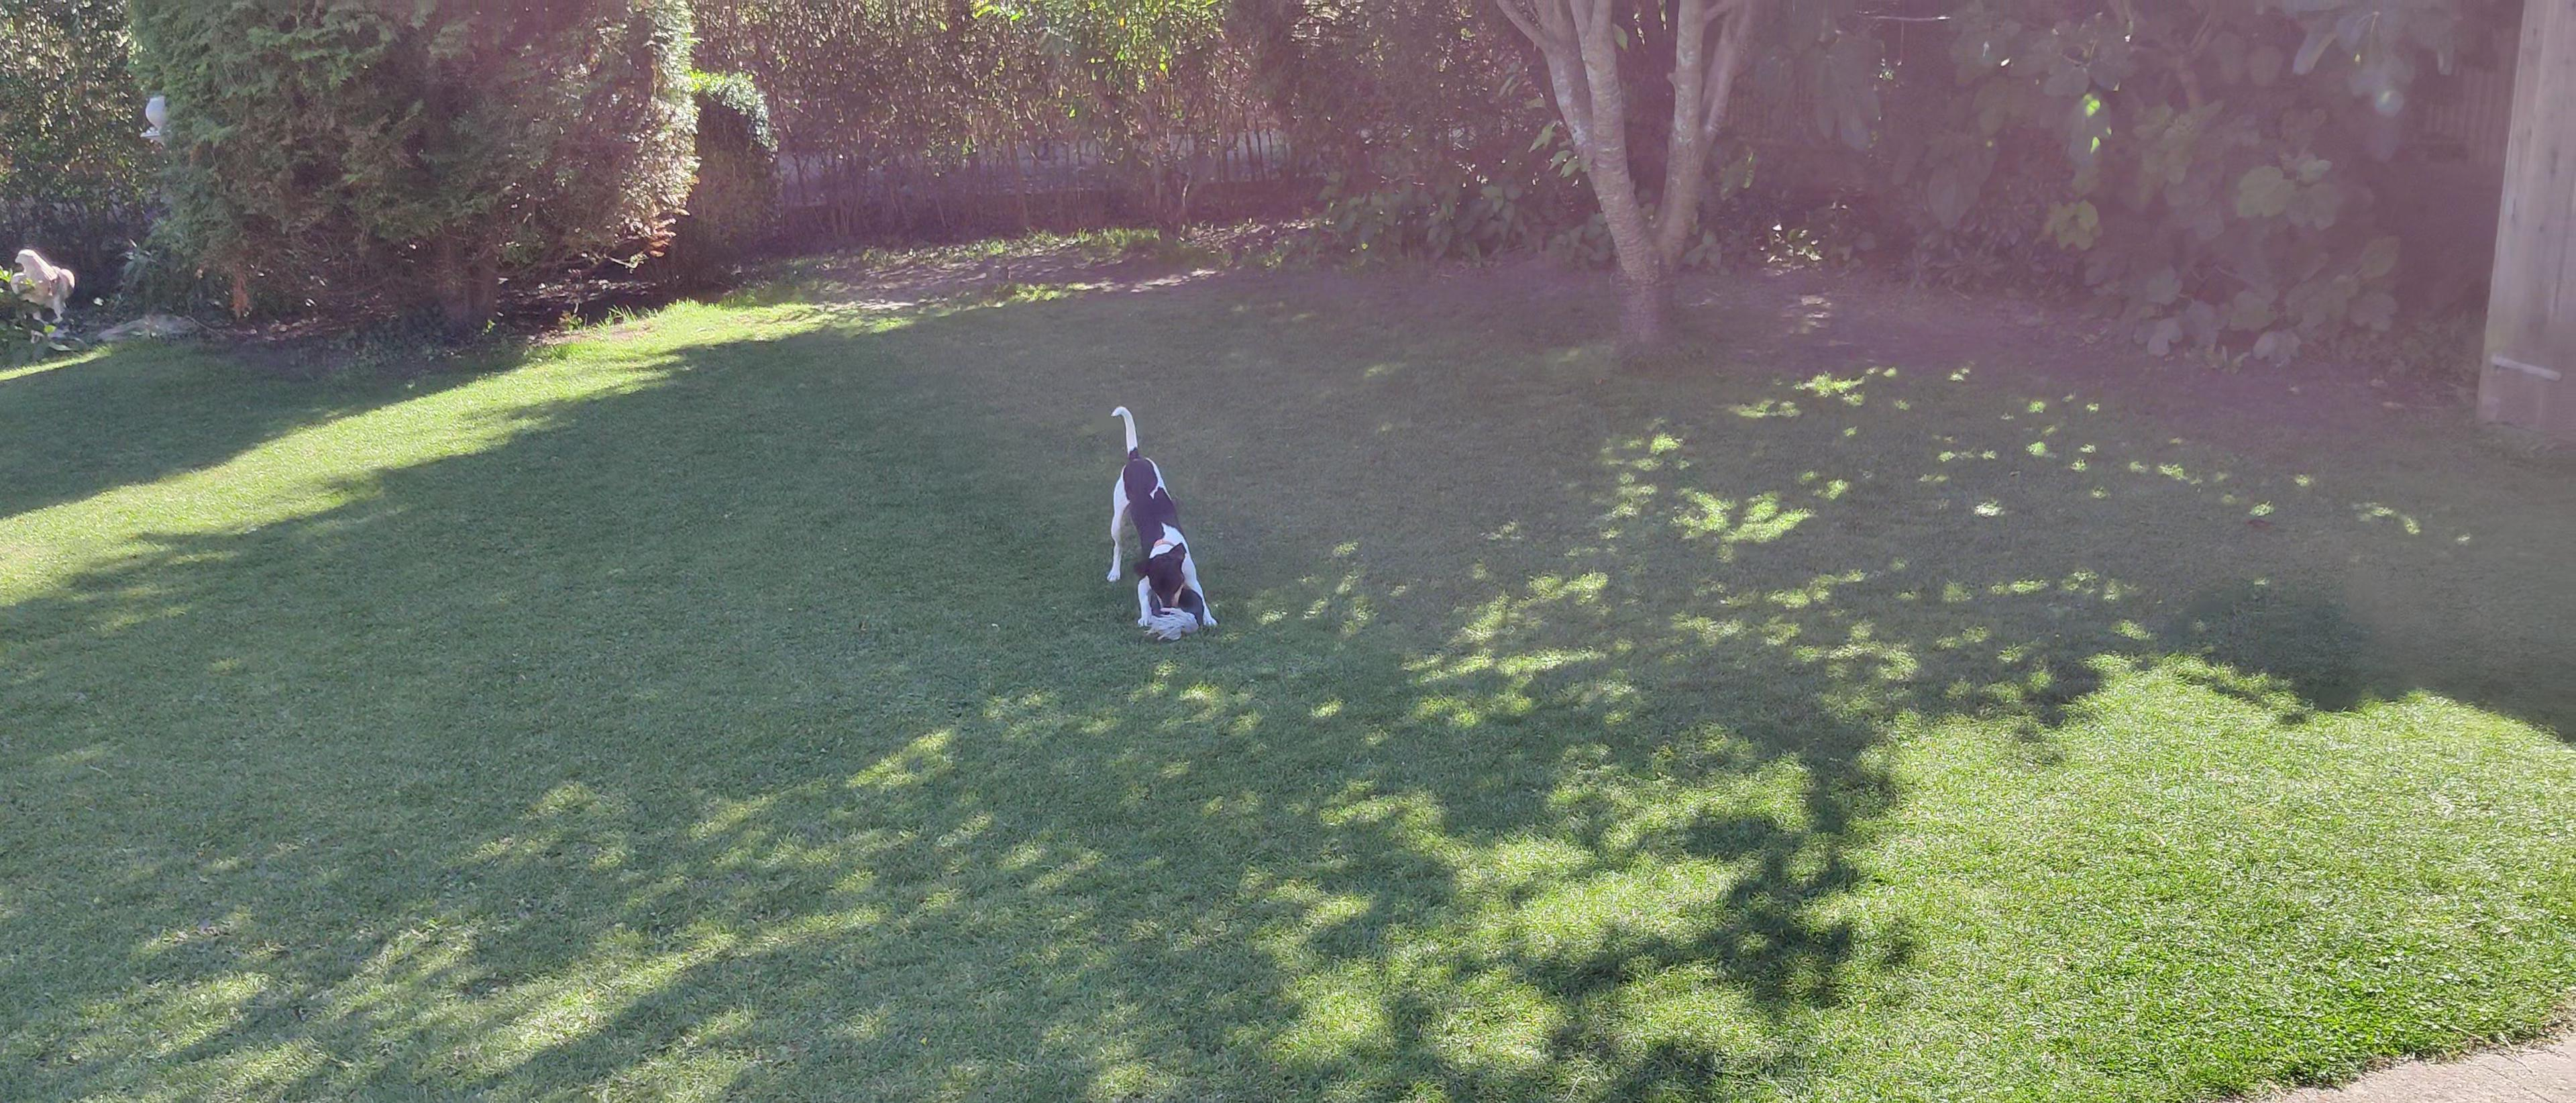Dog: (1089, 398, 1234, 631)
